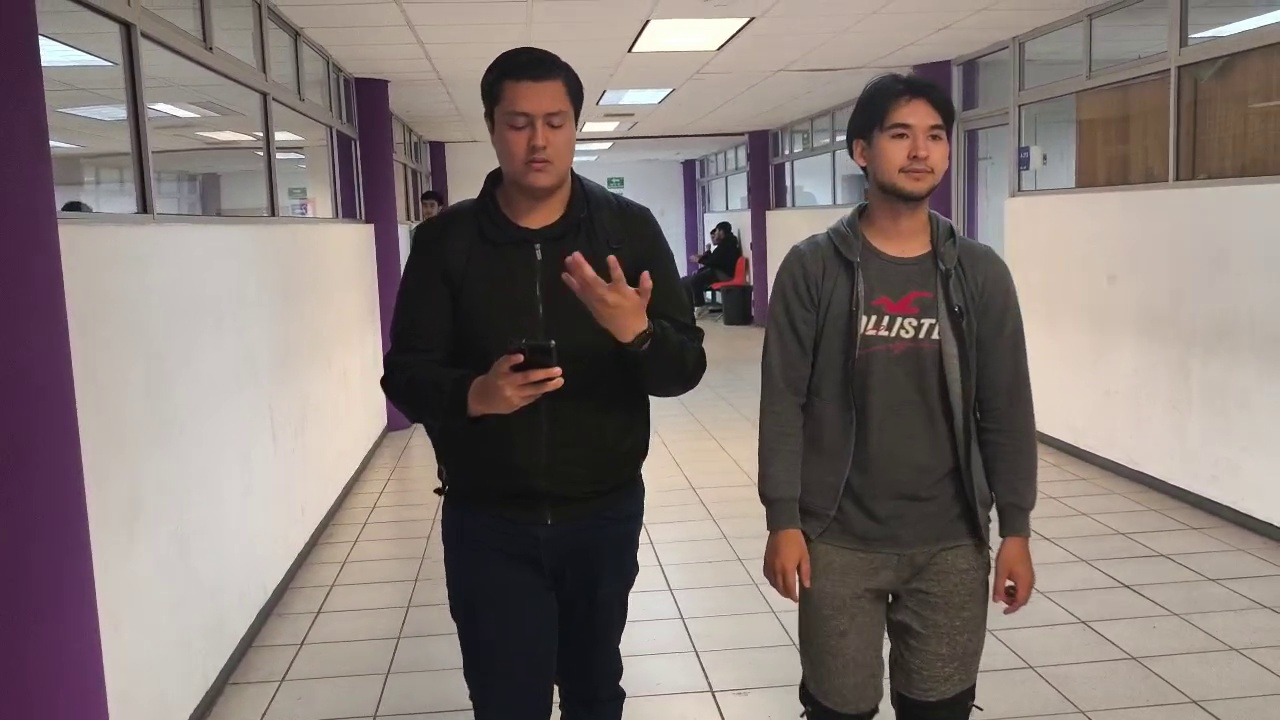mixto2: (499, 328, 563, 381)
